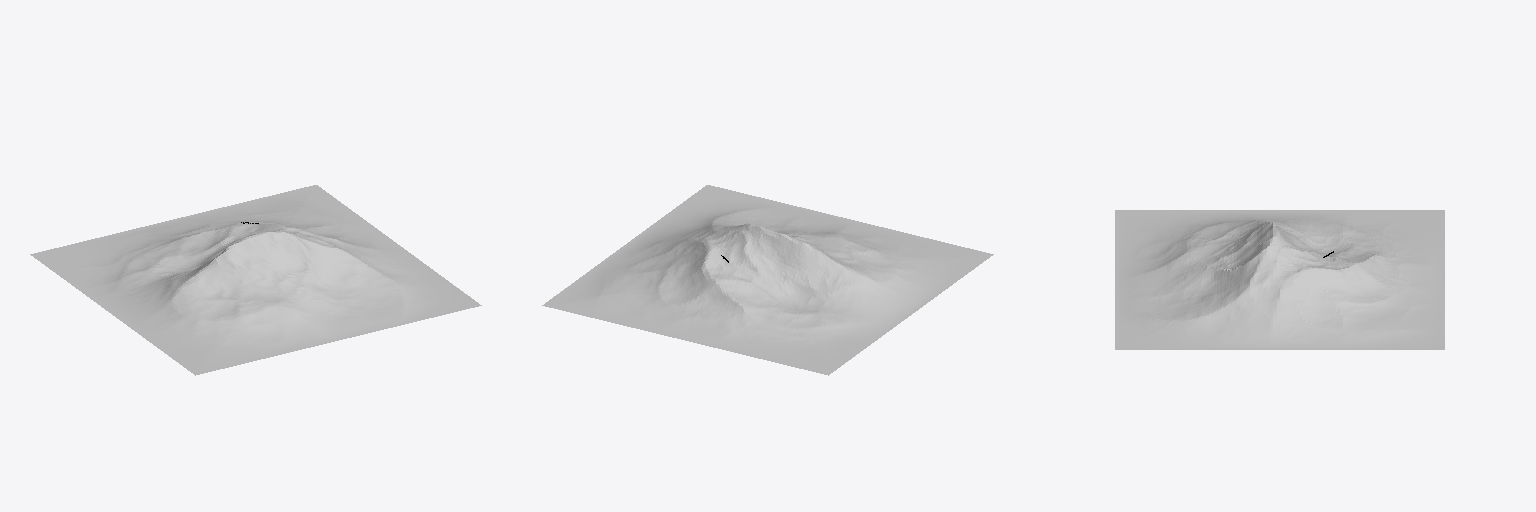
Rendered from wip_03.obj.
The picture shows the model from 3 angles: view 1: azimuth 30°, elevation 25°; view 2: azimuth 150°, elevation 25°; view 3: azimuth 270°, elevation 25°; orthographic projection.
Parts seen in each view (by area): view 1: Landscape; view 2: Landscape; view 3: Landscape.
Boxes of the visible parts, x1=… form: Landscape: x1=30, y1=185, x2=481, y2=375; Landscape: x1=542, y1=185, x2=993, y2=375; Landscape: x1=1115, y1=210, x2=1444, y2=349.
Size of the model in its own units: 600 by 96.29 by 600.